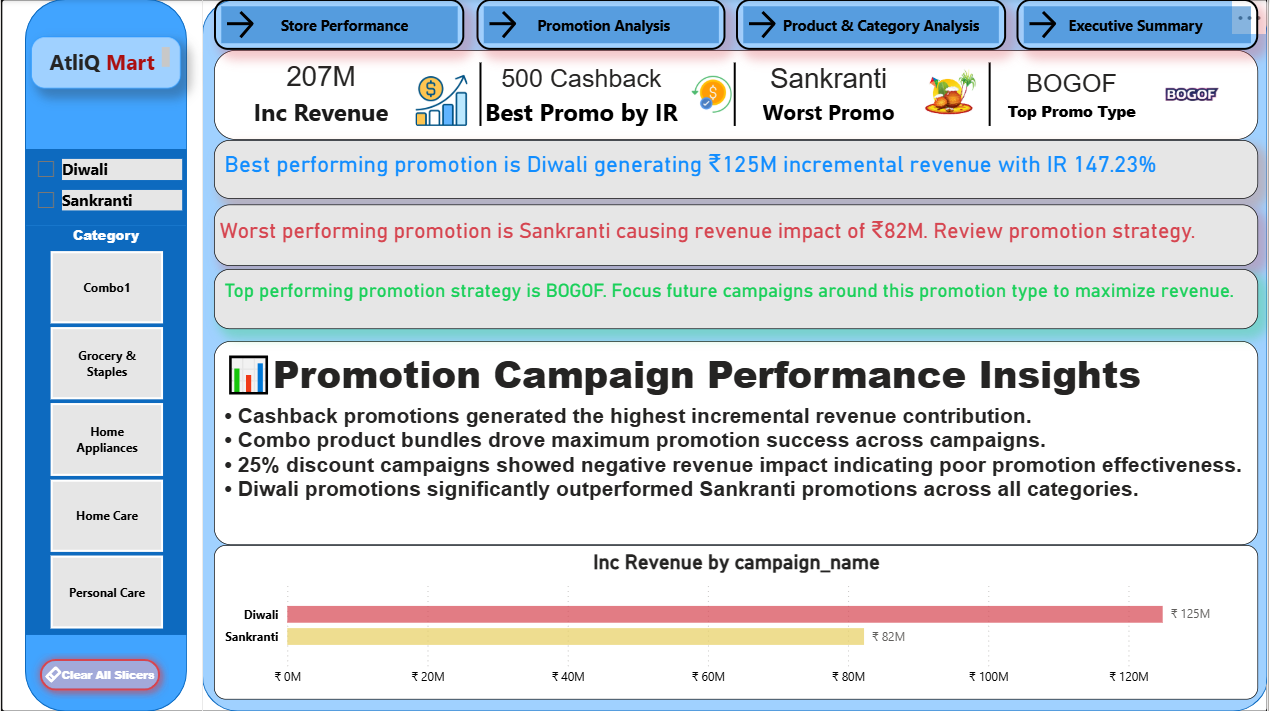

What the dashboard file says about the page in this screenshot:
{"tool":"powerbi","page":{"name":"Executive Summary","canvas":[1280,720],"ordinal":0},"visuals":[{"type":"shape","box":[24.2,0,163.5,719.2],"z":0},{"type":"shape","box":[202.9,0,1076.6,719.2],"z":1000},{"type":"textbox","title":"📊Promotion Campaign Performance Insights","box":[215,345.2,1053.9,205.9],"z":2000},{"type":"cardVisual","title":"Best Promo by IR","fields":{"Data":["retail_events_db fact_events.Inc Revenue","retail_events_db fact_events.Best Promo by IR","retail_events_db fact_events.Worst Promo","retail_events_db fact_events.Top Promo Type"]},"box":[215,51.5,1053.9,90.9],"z":3000},{"type":"clusteredBarChart","fields":{"Category":["retail_events_db dim_campaigns.campaign_name"],"Y":["retail_events_db fact_events.Inc Revenue"]},"box":[215,551.2,1053.9,156],"z":4000},{"type":"slicer","title":"Category","fields":{"Values":["retail_events_db dim_products.category"]},"box":[24.2,228.6,163.5,413.4],"z":5000},{"type":"slicer","fields":{"Values":["retail_events_db dim_campaigns.campaign_name"]},"box":[24.2,151.4,163.5,77.2],"z":6000},{"type":"textbox","box":[30.3,37.9,151.4,53],"z":7000},{"type":"multiRowCard","fields":{"Values":["retail_events_db fact_events.Insight Text"]},"box":[215,142,1053.9,59.1],"z":8000},{"type":"multiRowCard","fields":{"Values":["retail_events_db fact_events.Worst Insight"]},"box":[215,207,1053.9,62.1],"z":9000},{"type":"multiRowCard","fields":{"Values":["retail_events_db fact_events.Dynamic Recommendation"]},"box":[215,272.6,1053.9,60.6],"z":10000},{"type":"actionButton","box":[30.3,657.2,139.3,50],"z":11000},{"type":"actionButton","box":[480,0,251.4,51.5],"z":12000},{"type":"actionButton","box":[215,0,252.9,51.5],"z":13000},{"type":"actionButton","box":[742,0,272.6,51.5],"z":14000},{"type":"actionButton","box":[1025.1,0,243.8,51.5],"z":15000}]}

Visuals, with their boxes in screenshot pixels (x1, y1, x2, y2), scaled from the page's 1280x720 canvas onto the 1270x711 screenshot:
shape: crop(24, 0, 186, 710)
shape: crop(201, 0, 1269, 710)
"📊Promotion Campaign Performance Insights" textbox: crop(213, 341, 1259, 544)
"Best Promo by IR" cardVisual: crop(213, 51, 1259, 141)
clusteredBarChart - retail_events_db dim_campaigns.campaign_name x retail_events_db fact_events.Inc Revenue: crop(213, 544, 1259, 698)
"Category" slicer: crop(24, 226, 186, 634)
slicer - retail_events_db dim_campaigns.campaign_name: crop(24, 150, 186, 226)
textbox: crop(30, 37, 180, 90)
multiRowCard - retail_events_db fact_events.Insight Text: crop(213, 140, 1259, 199)
multiRowCard - retail_events_db fact_events.Worst Insight: crop(213, 204, 1259, 266)
multiRowCard - retail_events_db fact_events.Dynamic Recommendation: crop(213, 269, 1259, 329)
actionButton: crop(30, 649, 168, 698)
actionButton: crop(476, 0, 726, 51)
actionButton: crop(213, 0, 464, 51)
actionButton: crop(736, 0, 1007, 51)
actionButton: crop(1017, 0, 1259, 51)
